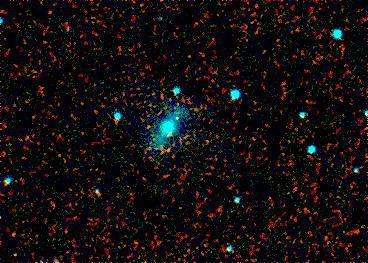star: (163, 104, 193, 134)
